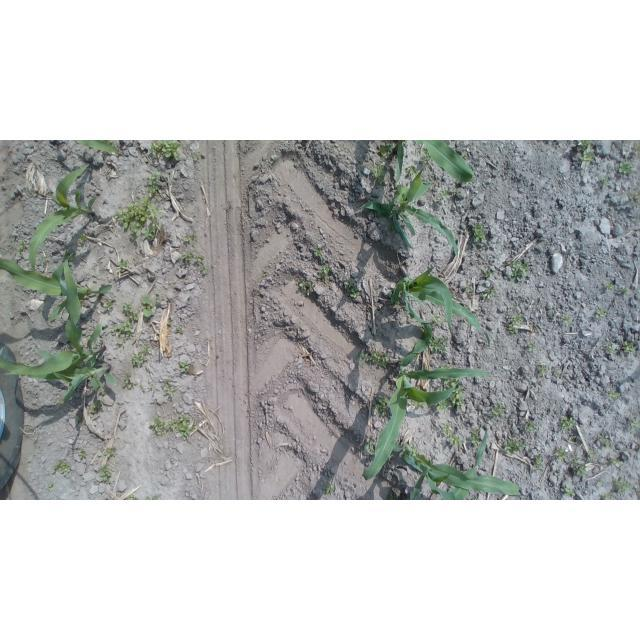Maize: (356, 319, 496, 482), (2, 253, 109, 380), (365, 428, 531, 500), (354, 167, 463, 257), (23, 161, 105, 271), (0, 250, 100, 327), (374, 266, 486, 331), (3, 352, 121, 405), (376, 141, 478, 188)
Weeds: (114, 199, 163, 241), (150, 415, 195, 441), (355, 347, 390, 370), (108, 318, 135, 347), (443, 377, 465, 409), (147, 140, 182, 160), (145, 171, 166, 201), (441, 422, 463, 449), (372, 392, 395, 416), (435, 186, 466, 203), (501, 438, 526, 459), (578, 141, 597, 168), (119, 369, 141, 391), (510, 260, 531, 283), (506, 314, 526, 337), (426, 337, 449, 356), (140, 296, 157, 321), (470, 222, 490, 243), (122, 301, 141, 323), (193, 253, 211, 275), (371, 164, 387, 187), (315, 264, 334, 283), (609, 476, 629, 494), (52, 459, 73, 476), (98, 464, 114, 486), (560, 415, 579, 433), (345, 281, 363, 299), (604, 452, 622, 470), (321, 478, 340, 495), (88, 399, 105, 418), (132, 353, 151, 370), (160, 379, 176, 399), (470, 424, 483, 448), (626, 187, 640, 208), (179, 361, 195, 379), (60, 248, 76, 266), (297, 277, 315, 293), (405, 163, 421, 181), (570, 458, 586, 476), (605, 389, 624, 404), (101, 296, 115, 316), (429, 312, 445, 329), (490, 403, 507, 419), (408, 395, 426, 410), (125, 494, 168, 500), (114, 257, 131, 272), (605, 341, 620, 358), (622, 339, 636, 357), (420, 150, 434, 167), (598, 433, 615, 447), (593, 307, 608, 322), (315, 245, 330, 260), (533, 452, 547, 468), (558, 311, 573, 325), (596, 174, 612, 187), (103, 444, 116, 460), (627, 418, 640, 434), (619, 159, 631, 176), (554, 445, 568, 459), (524, 419, 538, 433), (181, 251, 194, 266), (181, 232, 196, 245), (535, 362, 548, 377), (562, 484, 577, 497), (16, 239, 29, 253), (153, 293, 165, 307), (461, 147, 472, 162), (78, 449, 90, 461), (482, 287, 494, 299), (525, 341, 537, 353), (481, 266, 489, 283), (99, 386, 110, 398), (175, 324, 185, 337), (633, 141, 640, 159), (605, 281, 616, 292), (78, 233, 89, 244), (438, 398, 445, 415), (586, 446, 595, 459), (595, 494, 614, 500), (261, 267, 271, 278), (46, 481, 57, 491), (140, 343, 150, 353), (595, 476, 605, 486), (622, 286, 631, 296), (190, 153, 199, 163), (148, 382, 155, 391), (167, 318, 172, 328)
